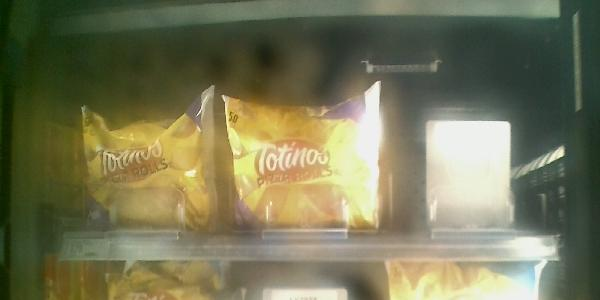icecream: (220, 89, 383, 230), (78, 87, 222, 239)
